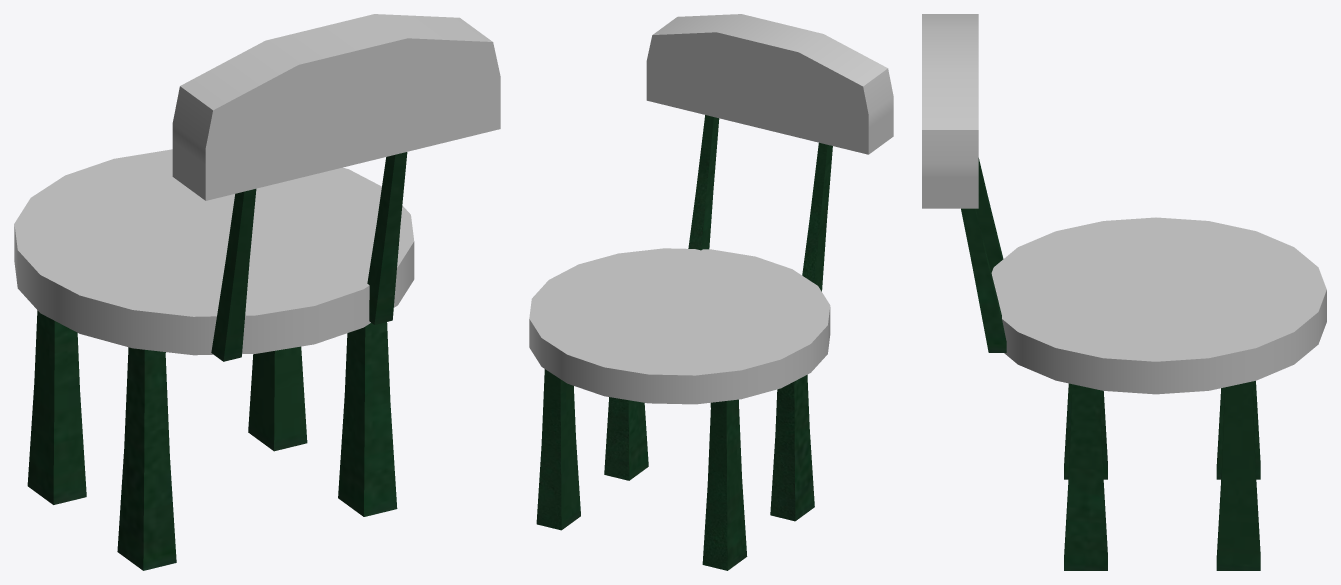
File: chaircircle.fbx
The picture shows the model from 3 angles, left to right: view 1: azimuth 30°, elevation 25°; view 2: azimuth 150°, elevation 25°; view 3: azimuth 270°, elevation 25°; orthographic projection. The views are drawn at different scales.
Visible parts, largest first — view 1: chair_circle, leg7, leg8, leg9, leg10, leg11, leg6, leg; view 2: chair_circle, leg7, leg10, leg11, leg8, leg9, leg6, leg; view 3: chair_circle, leg7, leg11, leg9, leg, leg6, leg10, leg8.
Part boxes in pixels (x1,y1,x2,y2): chair_circle: (14, 149, 414, 355); leg7: (172, 14, 500, 200); leg8: (117, 347, 176, 570); leg9: (338, 322, 397, 516); leg10: (27, 310, 86, 504); leg11: (248, 346, 307, 451); leg6: (211, 189, 256, 361); leg: (367, 152, 407, 324); chair_circle: (529, 248, 830, 404); leg7: (646, 14, 893, 154); leg10: (702, 399, 747, 570); leg11: (536, 369, 580, 530); leg8: (770, 374, 814, 521); leg9: (604, 397, 648, 480); leg6: (802, 142, 832, 291); leg: (688, 115, 719, 250); chair_circle: (991, 217, 1326, 394); leg7: (922, 14, 978, 208); leg11: (1216, 381, 1260, 570); leg9: (1064, 384, 1107, 570); leg: (961, 208, 1006, 352); leg6: (976, 158, 1003, 272); leg10: (1216, 381, 1260, 479); leg8: (1064, 383, 1107, 479).
Bounding box in the file's own units: 44.93 × 67.79 × 53.25.
